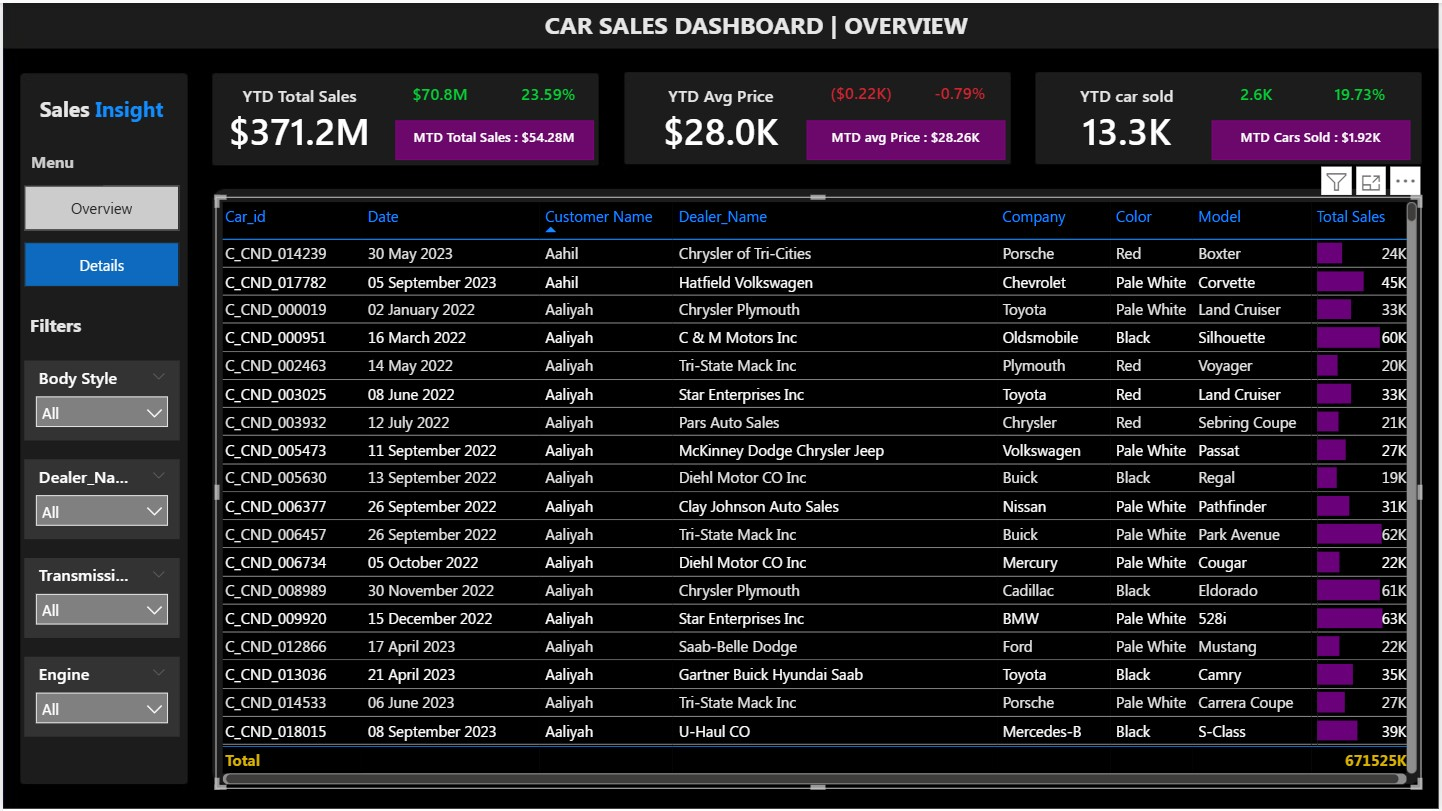

The page's visual inventory and layout, read from the dashboard file:
{"tool":"powerbi","page":{"name":"Details","canvas":[1280,720],"ordinal":1},"visuals":[{"type":"card","title":"YTD Total Sales","fields":{"Values":["car_data.YTD Total Sales"]},"box":[179.3,72.7,170,67.3],"z":0},{"type":"card","title":"PYTD Total Sales","fields":{"Values":["car_data.Sales Difference"]},"box":[349.3,68.7,80,27.3],"z":1000},{"type":"card","title":"PYTD Total Sales","fields":{"Values":["car_data.YoY Sales Growth"]},"box":[446.7,68.7,79.3,27.3],"z":2000},{"type":"card","fields":{"Values":["car_data.MDT KPI"]},"box":[349.3,104.7,176.7,35.3],"z":3000},{"type":"card","title":"YTD Avg Price","fields":{"Values":["car_data.YTD avg price"]},"box":[554.4,72.7,170.2,67.2],"z":4000},{"type":"card","title":"PYTD Total Sales","fields":{"Values":["car_data.Avg price diff"]},"box":[724.5,68.6,79.6,27.4],"z":5000},{"type":"card","title":"PYTD Total Sales","fields":{"Values":["car_data.YoY avg price growth"]},"box":[812.4,68.6,79.6,27.4],"z":6000},{"type":"card","fields":{"Values":["car_data.MTD avg price KPI"]},"box":[715.8,104.2,176.8,35.1],"z":7000},{"type":"card","title":"YTD car sold","fields":{"Values":["car_data.YTD car sold"]},"box":[915.7,72.7,169.6,67.8],"z":8000},{"type":"card","title":"PYTD Total Sales","fields":{"Values":["car_data.Car sold diff"]},"box":[1076.8,69,79.9,27.9],"z":9000},{"type":"card","title":"PYTD Total Sales","fields":{"Values":["car_data.YoY car sold growth"]},"box":[1168.8,69,79.9,27.9],"z":10000},{"type":"card","fields":{"Values":["car_data.MTD cars sold KPI"]},"box":[1076.8,104.2,176.8,35.1],"z":11000},{"type":"textbox","box":[477.9,0,398.8,45.3],"z":12000},{"type":"slicer","fields":{"Values":["car_data.Body Style"]},"box":[19.3,318.9,138.4,70.9],"z":13000},{"type":"slicer","fields":{"Values":["car_data.Dealer_Name"]},"box":[19.3,406.1,138.4,70.9],"z":14000},{"type":"slicer","fields":{"Values":["car_data.Transmission"]},"box":[19.3,494.5,138.4,70.9],"z":15000},{"type":"slicer","fields":{"Values":["car_data.Engine"]},"box":[19.3,581.7,138.4,70.9],"z":16000},{"type":"textbox","box":[19.3,270.1,68.6,36],"z":17000},{"type":"tableEx","fields":{"Values":["car_data.Car_id","car_data.Date","car_data.Customer Name","car_data.Dealer_Name","car_data.Company","car_data.Color","car_data.Model","car_data.Price ($)"]},"box":[189.5,172.1,1074.4,527.9],"z":18000},{"type":"textbox","box":[27.9,76.7,130.2,45.3],"z":19000},{"type":"textbox","box":[19.8,126.7,68.6,36],"z":20000},{"type":"pageNavigator","box":[19.3,162.9,138.7,90.5],"z":21000}]}

Visuals, with their boxes in screenshot pixels (x1, y1, x2, y2), scaled from the page's 1280x720 canvas onto the 1442x811 screenshot:
"YTD Total Sales" card: [x1=202, y1=82, x2=394, y2=158]
"PYTD Total Sales" card: [x1=394, y1=77, x2=484, y2=108]
"PYTD Total Sales" card: [x1=503, y1=77, x2=593, y2=108]
card - car_data.MDT KPI: [x1=394, y1=118, x2=593, y2=158]
"YTD Avg Price" card: [x1=625, y1=82, x2=816, y2=158]
"PYTD Total Sales" card: [x1=816, y1=77, x2=906, y2=108]
"PYTD Total Sales" card: [x1=915, y1=77, x2=1005, y2=108]
card - car_data.MTD avg price KPI: [x1=806, y1=117, x2=1006, y2=157]
"YTD car sold" card: [x1=1032, y1=82, x2=1223, y2=158]
"PYTD Total Sales" card: [x1=1213, y1=78, x2=1303, y2=109]
"PYTD Total Sales" card: [x1=1317, y1=78, x2=1407, y2=109]
card - car_data.MTD cars sold KPI: [x1=1213, y1=117, x2=1412, y2=157]
textbox: [x1=538, y1=0, x2=988, y2=51]
slicer - car_data.Body Style: [x1=22, y1=359, x2=178, y2=439]
slicer - car_data.Dealer_Name: [x1=22, y1=457, x2=178, y2=537]
slicer - car_data.Transmission: [x1=22, y1=557, x2=178, y2=637]
slicer - car_data.Engine: [x1=22, y1=655, x2=178, y2=735]
textbox: [x1=22, y1=304, x2=99, y2=345]
tableEx - car_data.Car_id x car_data.Date: [x1=213, y1=194, x2=1424, y2=788]
textbox: [x1=31, y1=86, x2=178, y2=137]
textbox: [x1=22, y1=143, x2=100, y2=183]
pageNavigator: [x1=22, y1=183, x2=178, y2=285]
